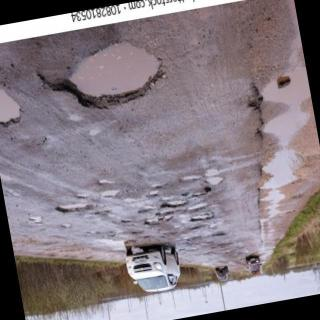pothole: (256, 70, 319, 278), (39, 43, 165, 109), (0, 87, 20, 123), (56, 204, 90, 212), (160, 200, 188, 208), (192, 211, 210, 222), (192, 188, 210, 197)
